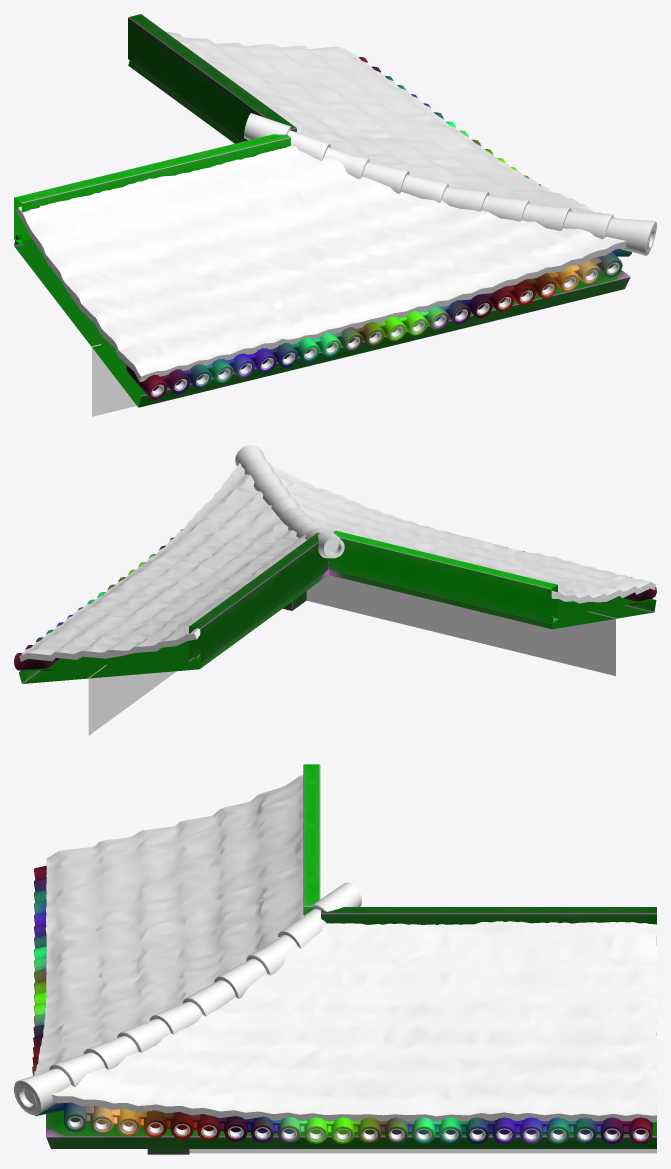
File: wall_roof_fenced_300_01_corner.fbx
3 views of the same model, one above another, from view 1: azimuth 30°, elevation 25°; view 2: azimuth 150°, elevation 25°; view 3: azimuth 270°, elevation 25° (orthographic). The views are drawn at different scales.
Parts seen in each view (by area): view 1: wall_roof_fenced_300_01_corner; view 2: wall_roof_fenced_300_01_corner; view 3: wall_roof_fenced_300_01_corner.
Part boxes in pixels (bbox=[...]): wall_roof_fenced_300_01_corner: bbox=[14, 14, 656, 416]; wall_roof_fenced_300_01_corner: bbox=[14, 445, 656, 735]; wall_roof_fenced_300_01_corner: bbox=[14, 764, 656, 1154].
Bounding box in the file's own units: 3.8 × 1.23 × 3.82.
